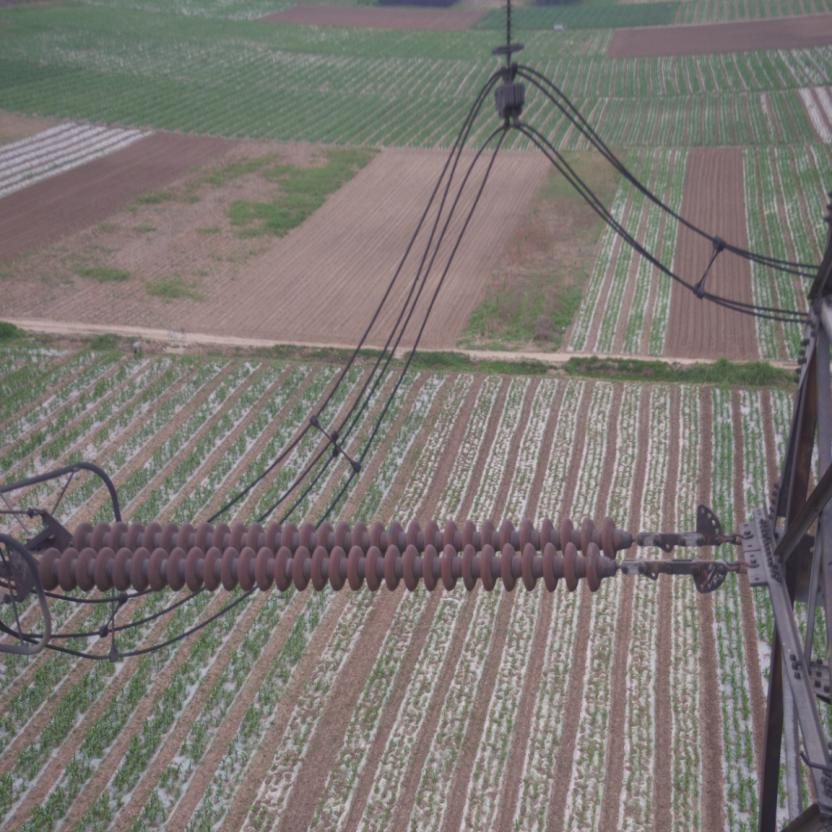insulator: (21, 510, 682, 598)
